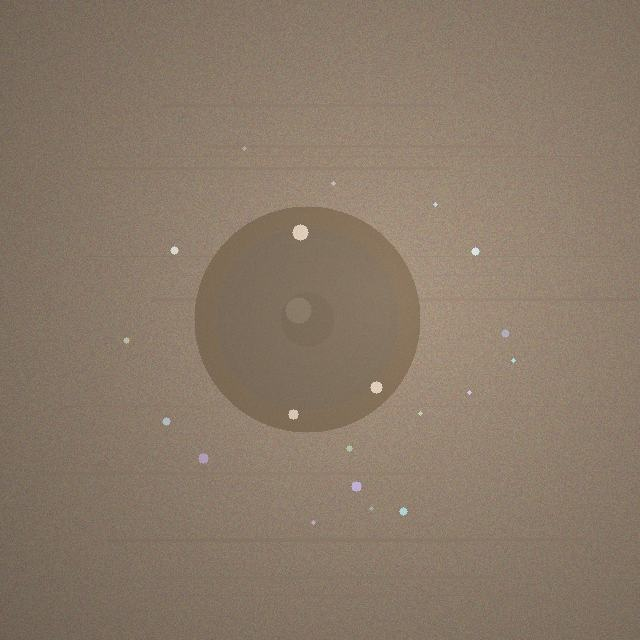overburn: (194, 206, 420, 432)
